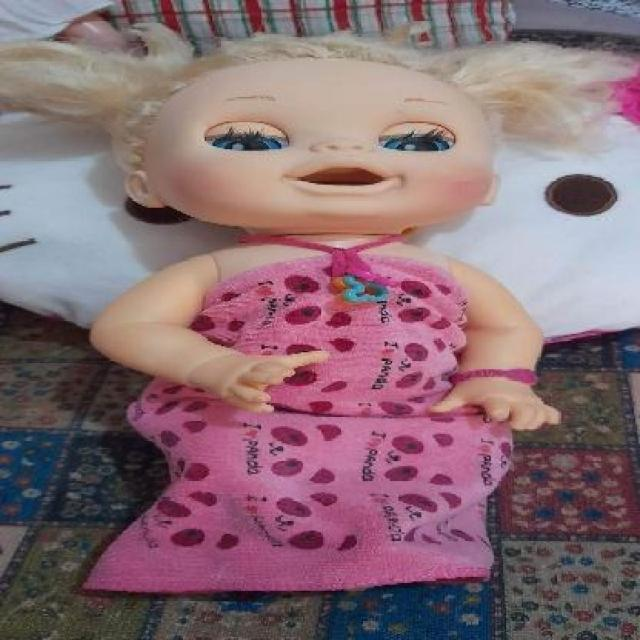non-dog: (0, 24, 632, 600)
